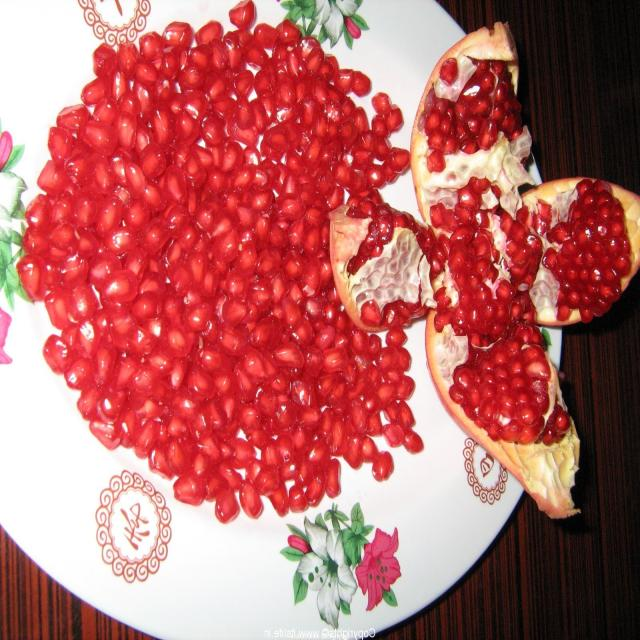Pomegranate: (18, 3, 422, 521), (330, 23, 579, 517), (542, 180, 631, 322)
